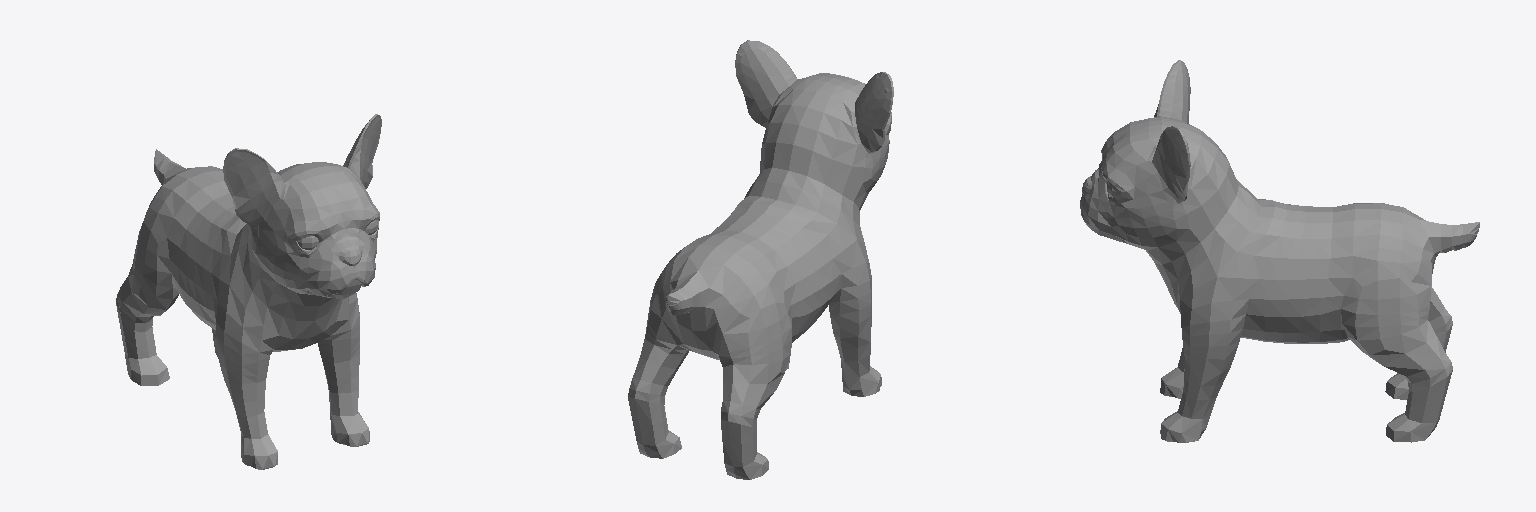
The model's file is french_bulldog.obj.
The picture shows the model from 3 angles: view 1: azimuth 30°, elevation 25°; view 2: azimuth 150°, elevation 25°; view 3: azimuth 270°, elevation 25°; orthographic projection.
Parts seen in each view (by area): view 1: TopN; view 2: TopN; view 3: TopN.
Part boxes in pixels (x1,y1,x2,y2): TopN: (116, 114, 381, 469); TopN: (628, 40, 893, 479); TopN: (1080, 60, 1479, 442).
Bounding box in the file's own units: 6.35 × 12.39 × 13.92.